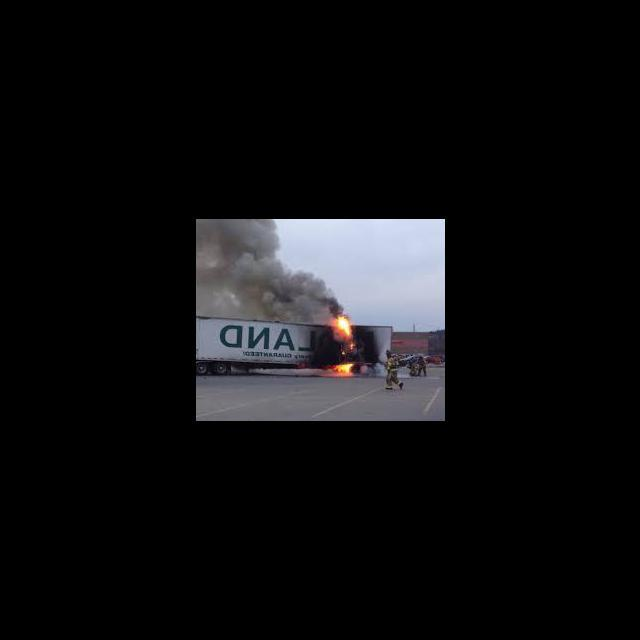Fire: (336, 312, 354, 339), (330, 362, 358, 378), (338, 348, 346, 357), (349, 342, 356, 352)
Smoke: (196, 219, 330, 315)
